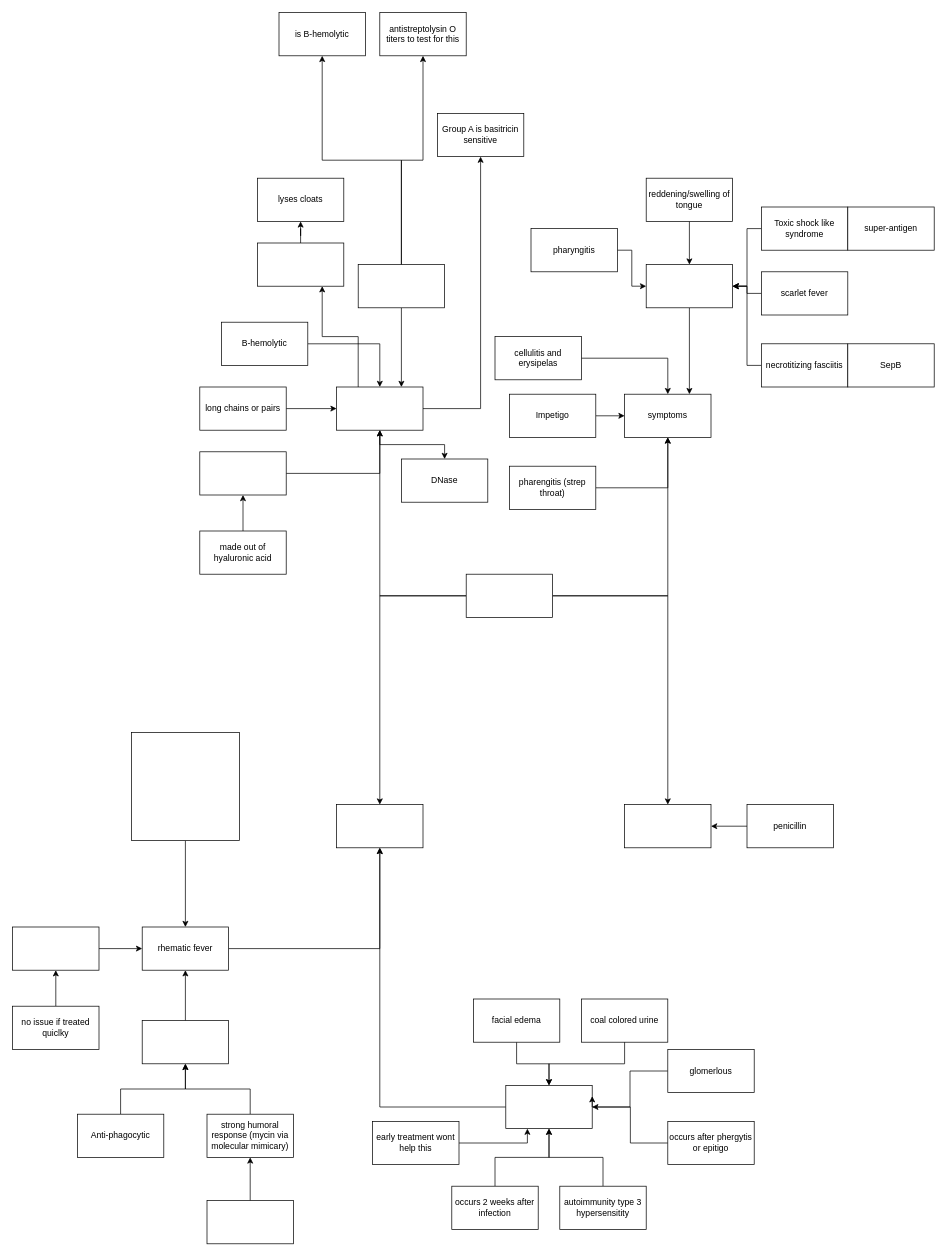
The diagram is 947 pixels wide and 1256 high, and some of its shapes have lost their labels. Here are the shapes that lost their labels. From the top down, the centre of each, then its label:
point (300, 264): stretokinase
point (401, 286): streptilysin O
point (689, 286): spe
point (379, 408): features
point (242, 473): encapsulated
point (509, 595): Strep Pyogenes - Group A Strep
point (185, 786): 1. Joints 2. O(heart) 3. Nodules 4. Erythema mariginatum 5. Sydenhams chorea
point (379, 826): complications
point (667, 826): treatment
point (55, 948): pharingitis not skin
point (185, 1042): M protien
point (548, 1107): psgn
point (249, 1222): big issues for heart valves (mitral valves)
